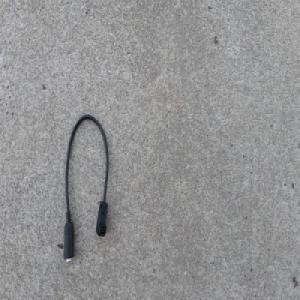Wire: (61, 113, 109, 266)
